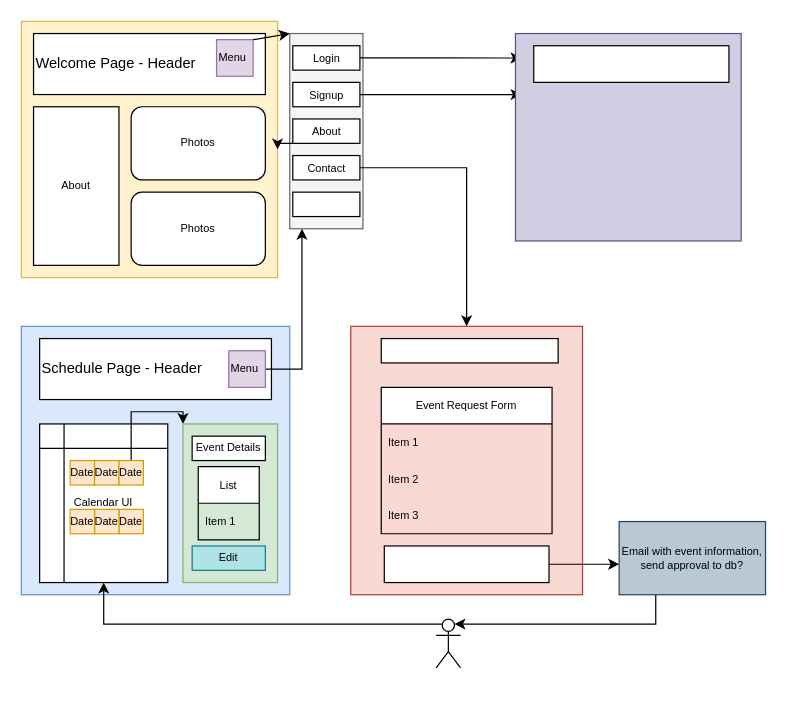
The diagram is 787 pixels wide and 711 high, and some of its shapes have lost their labels. The centre of each missing label's shape, as x and y in pixels:
Actor: the point at 448,643
Contact Admin for Event Request: the point at 469,350
Login Page TBD: the point at 631,63
Submit: the point at 466,564
View Sched: the point at 326,204
